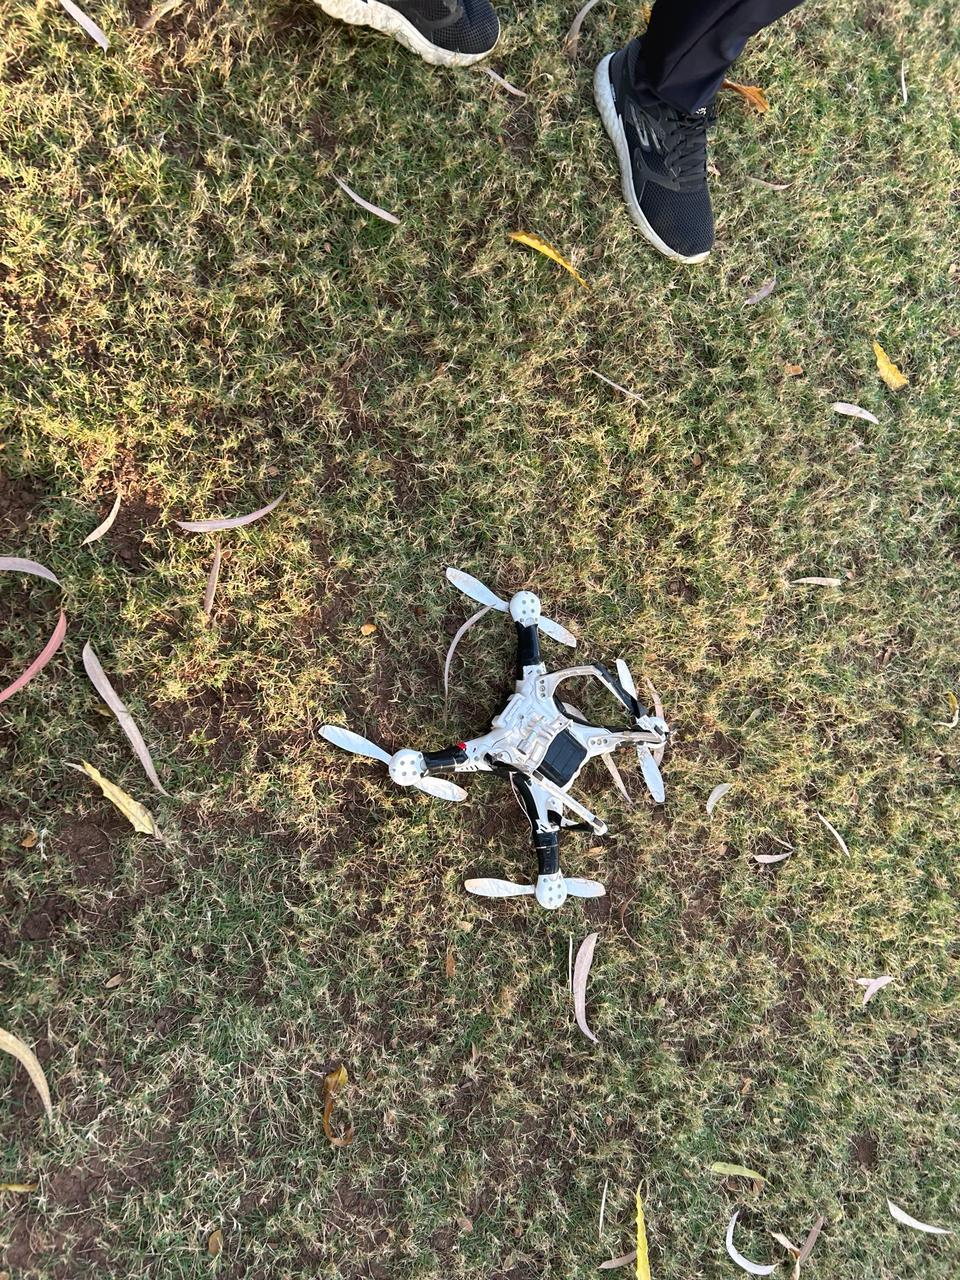drone: (346, 560, 689, 911)
